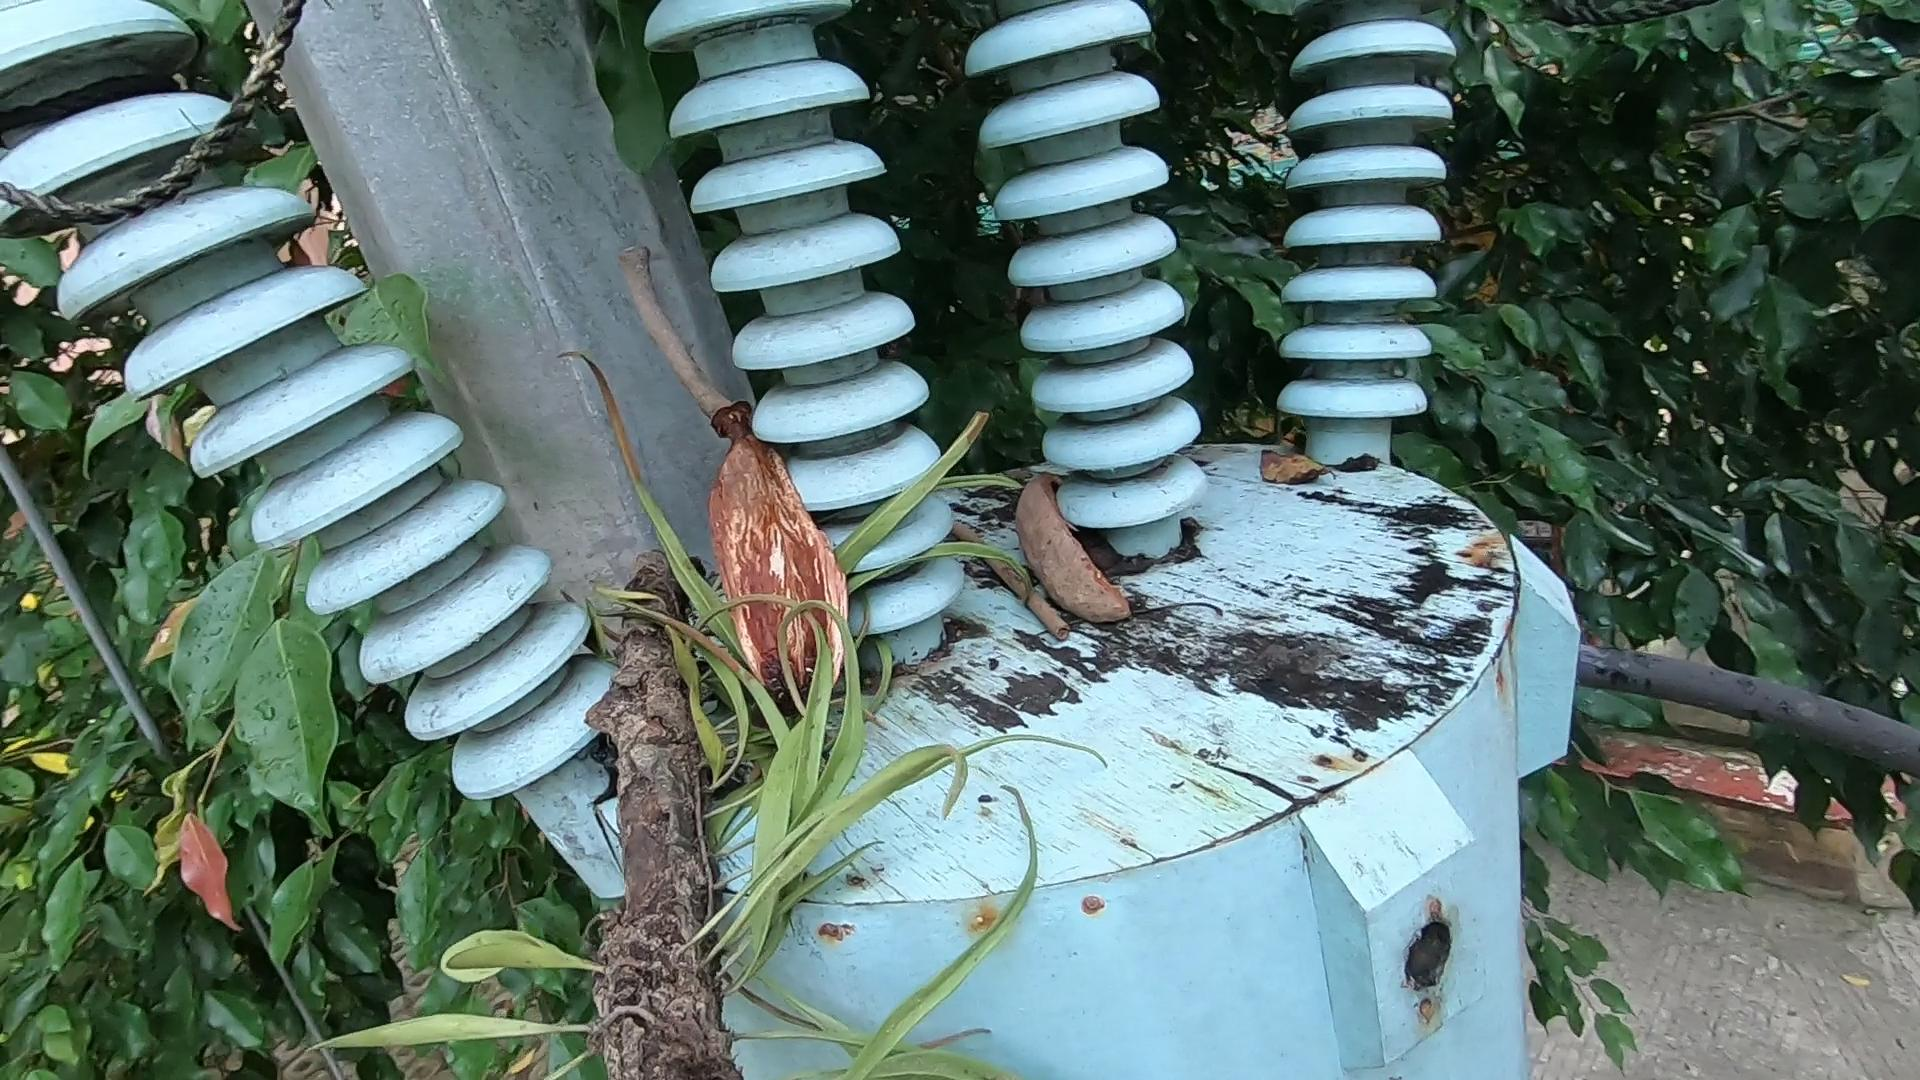branch with leaves: (504, 433, 914, 1080)
leaf: (1255, 400, 1466, 530)
mahogany fruit: (645, 376, 887, 707), (1004, 446, 1133, 667)
tree branch: (560, 215, 766, 433), (931, 444, 1106, 682)
